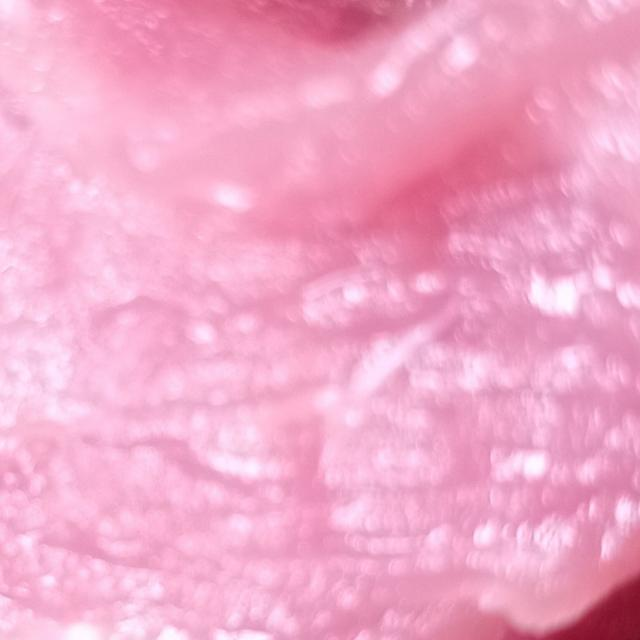Pork: (3, 1, 639, 640)
